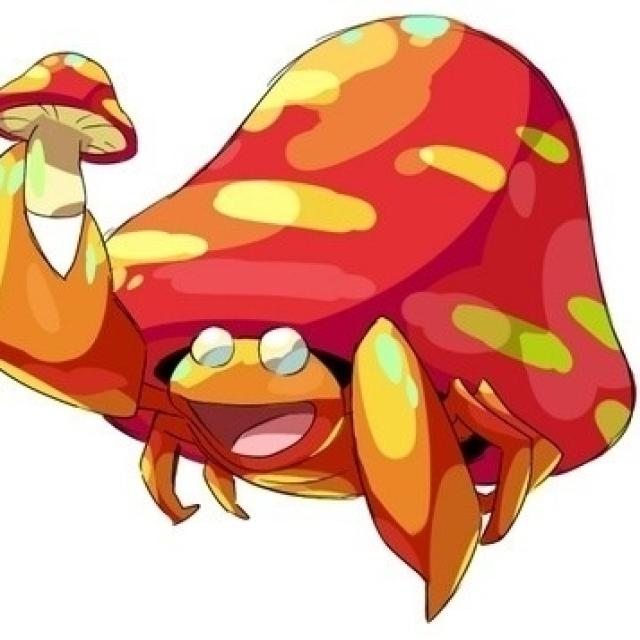Parasect: (9, 155, 640, 498)
